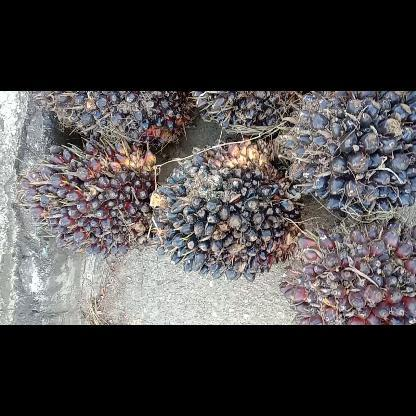TBS mentah: (145, 136, 308, 284), (14, 136, 164, 260), (282, 91, 414, 223), (278, 218, 414, 324), (33, 91, 199, 153), (186, 91, 308, 143)
